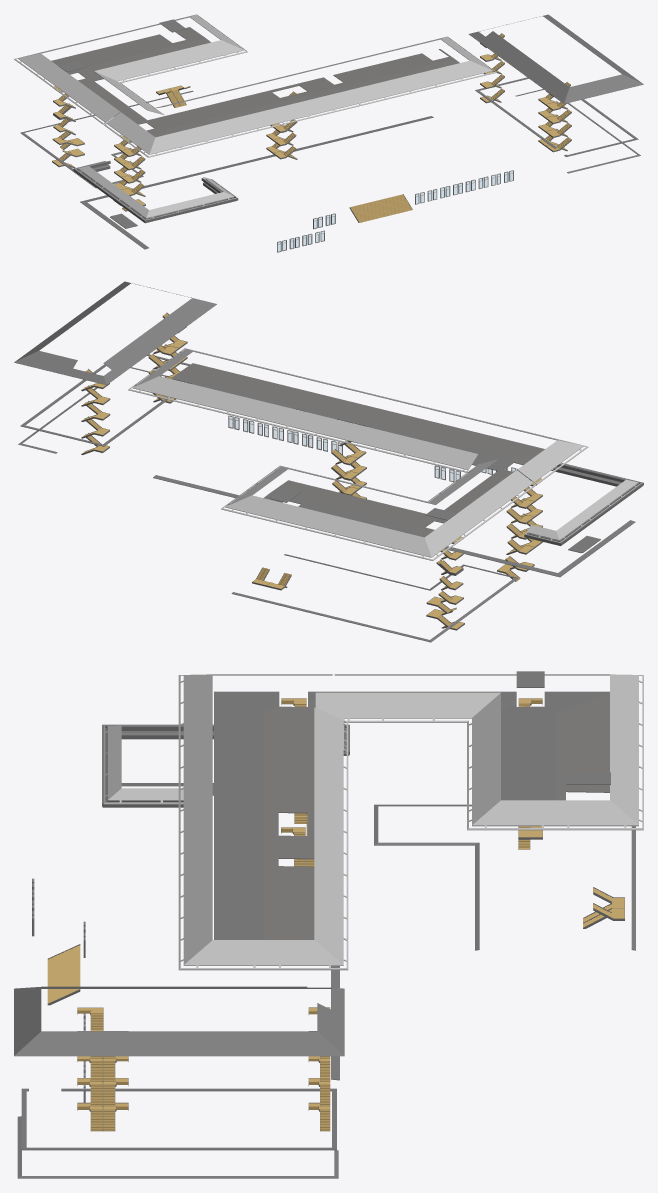
File: teaching-building_1.gltf
3 renders of one model, top to bottom at view 1: azimuth 30°, elevation 25°; view 2: azimuth 150°, elevation 25°; view 3: azimuth 270°, elevation 25°, orthographic. The views are drawn at different scales.
Parts seen in each view (by area): view 1: 常规 - 125mm [504438], 120 [593453], 120 [593841], 100 2 [605264], 120 [585413], 常规模型 3 [420686], 楼梯 [493425], 常规模型 7 [470541], 常规 - 110mm [608935], 常规模型 1 [382901], 常规模型 8 [471491], 常规模型 1 [600722] (+2 smaller); view 2: 常规 - 125mm [504438], 120 [593453], 120 [593841], 100 2 [605264], 120 [585413], 常规模型 1 [382901], 常规模型 3 [420686], 常规模型 7 [470541], 常规 - 110mm [608935]; view 3: 常规 - 125mm [504438], 120 [593453], 120 [593841], 100 2 [605264], 常规 - 110mm [608935], 120 [585413], 常规模型 1 [382901], 常规模型 7 [470541], 楼梯 [493425], 常规模型 1 [600722], 常规 - 110mm [594118], 楼梯 [386067] (+3 smaller).
Boxes of the visible parts, box(x1,y1,x2,y2) form: 常规 - 125mm [504438]: box(51, 27, 459, 137); 120 [593453]: box(104, 36, 496, 157); 120 [593841]: box(14, 14, 247, 124); 100 2 [605264]: box(468, 14, 643, 103); 120 [585413]: box(75, 161, 236, 220); 常规模型 3 [420686]: box(80, 116, 433, 249); 楼梯 [493425]: box(349, 194, 412, 222); 常规模型 7 [470541]: box(73, 161, 238, 223); 常规 - 110mm [608935]: box(475, 77, 638, 156); 常规模型 1 [382901]: box(20, 90, 193, 188); 常规模型 8 [471491]: box(77, 161, 233, 219); 常规模型 1 [600722]: box(515, 89, 640, 173); 常规 - 125mm [504438]: box(171, 363, 544, 537); 120 [593453]: box(128, 348, 588, 484); 120 [593841]: box(221, 459, 536, 560); 100 2 [605264]: box(14, 281, 216, 385); 120 [585413]: box(517, 463, 641, 542); 常规模型 1 [382901]: box(231, 554, 518, 642); 常规模型 3 [420686]: box(153, 475, 635, 577); 常规模型 7 [470541]: box(517, 463, 643, 545); 常规 - 110mm [608935]: box(20, 354, 190, 446); 常规 - 125mm [504438]: box(214, 691, 609, 939); 120 [593453]: box(178, 674, 348, 970); 120 [593841]: box(315, 674, 643, 830); 100 2 [605264]: box(14, 986, 344, 1056); 常规 - 110mm [608935]: box(21, 1088, 336, 1150); 120 [585413]: box(103, 725, 346, 804); 常规模型 1 [382901]: box(374, 804, 635, 950); 常规模型 7 [470541]: box(102, 724, 349, 807); 楼梯 [493425]: box(47, 944, 80, 1005); 常规模型 1 [600722]: box(17, 1116, 338, 1178); 常规 - 110mm [594118]: box(516, 671, 610, 784); 楼梯 [386067]: box(583, 887, 624, 928).
Size of the model in its own units: 156 by 31.1 by 104.
